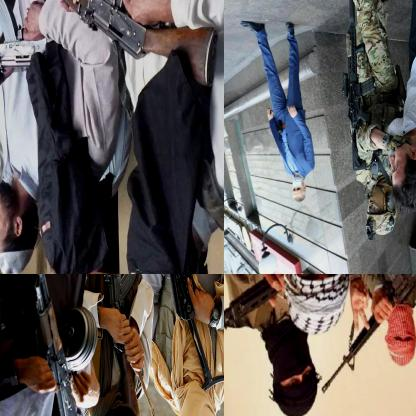rifle: (26, 0, 222, 91), (318, 274, 415, 397), (21, 274, 96, 415), (155, 274, 223, 394), (336, 0, 379, 175), (96, 274, 150, 369), (224, 274, 289, 343), (0, 0, 54, 78)
